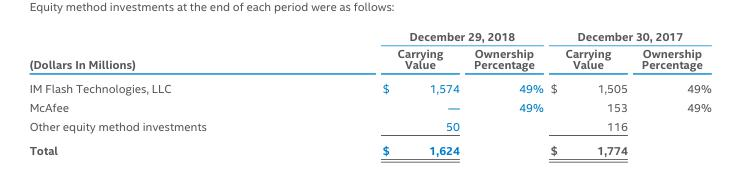table: (28, 29, 710, 156)
table column: (28, 29, 293, 156), (293, 29, 465, 156), (546, 29, 633, 156), (465, 29, 546, 156), (633, 29, 710, 156)
table column header: (28, 29, 710, 76)
table row: (28, 44, 710, 76), (28, 76, 710, 97), (28, 116, 710, 137), (28, 97, 710, 116), (28, 137, 710, 156), (28, 29, 710, 44)
table spanning cell: (28, 29, 293, 76), (293, 29, 546, 44), (546, 29, 710, 44)
